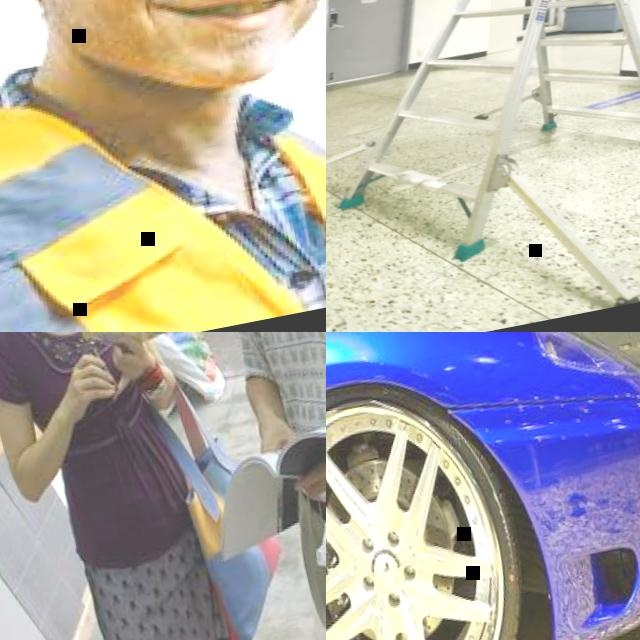NO-Mask: (10, 0, 326, 122)
NO-Safety Vest: (0, 332, 197, 565), (218, 332, 326, 511)
Person: (0, 0, 326, 332), (0, 332, 235, 640), (179, 332, 326, 640)
Safety Vest: (0, 20, 326, 332)
vehicle: (326, 332, 640, 640)
